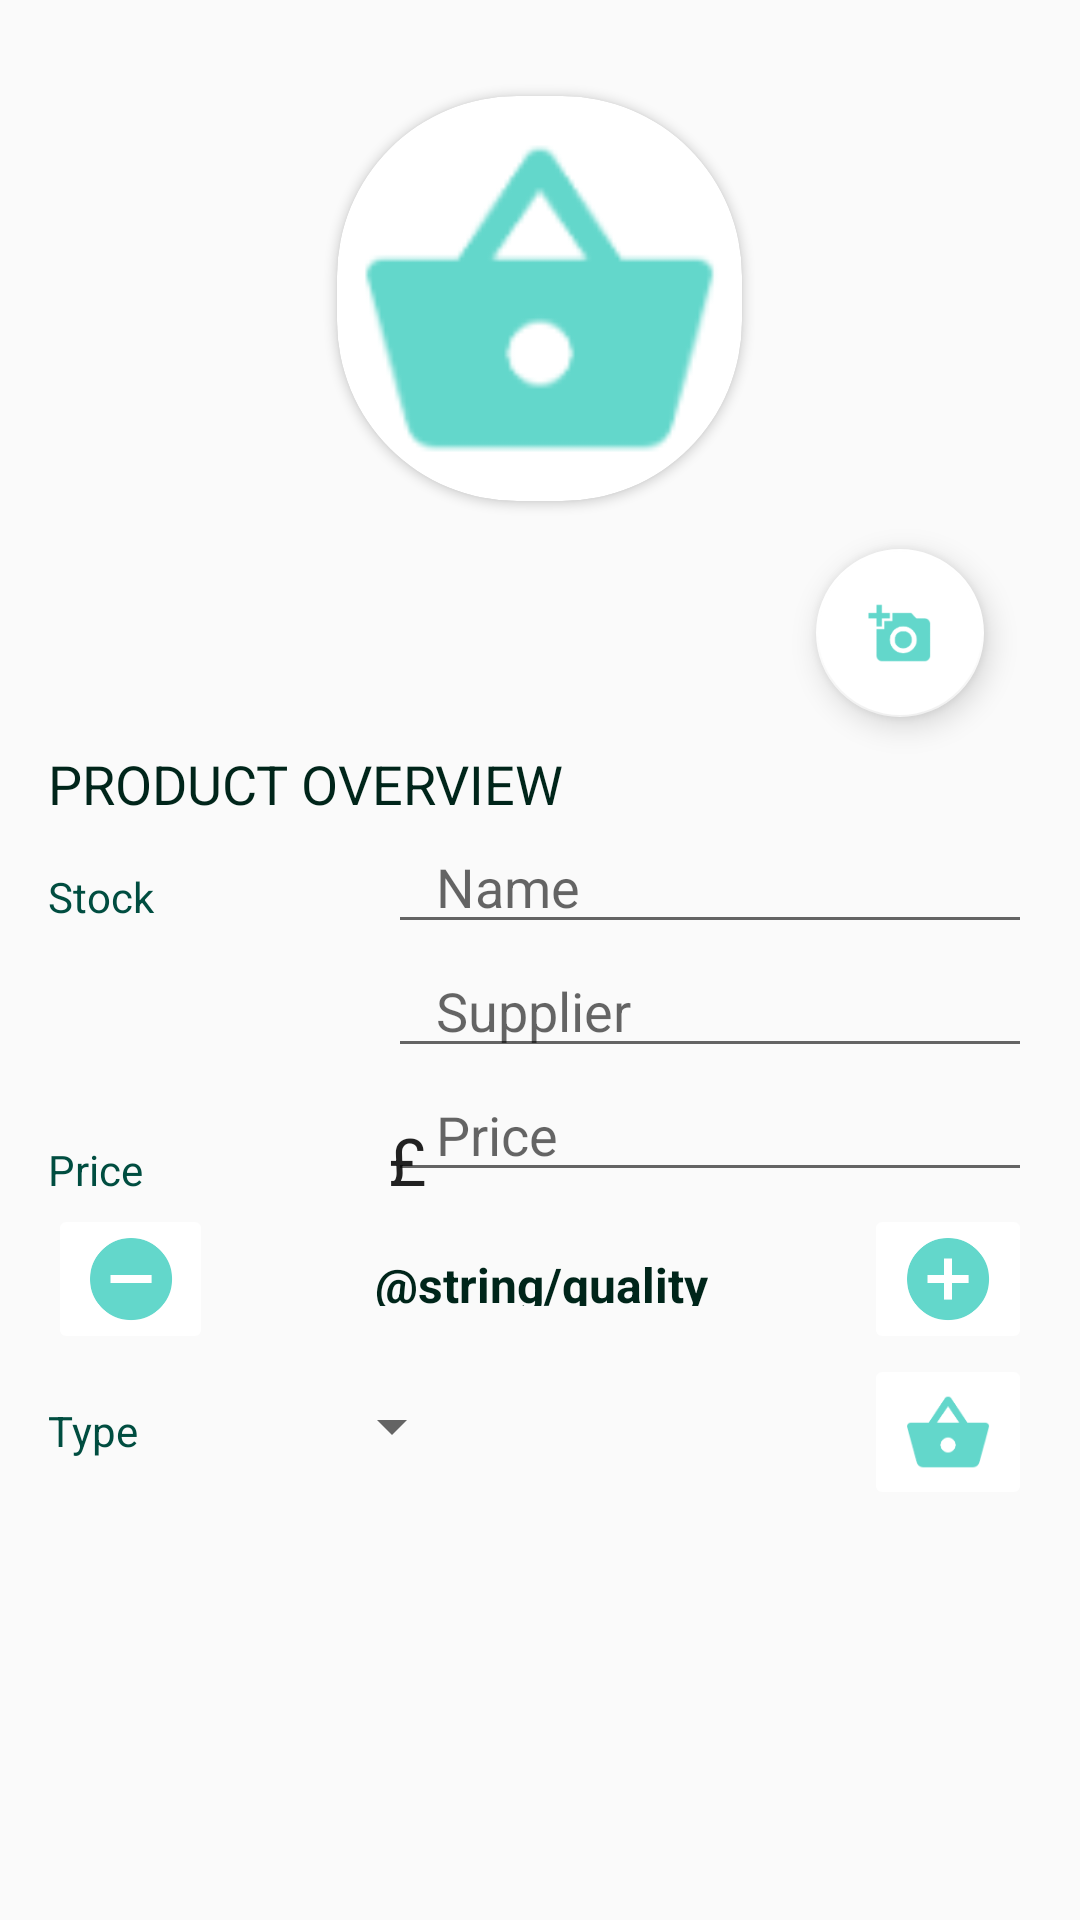

Named icons in this screenshot (1080*1920) and their centers, point (x, y):
add: point (948, 1279)
remove: point (131, 1279)
